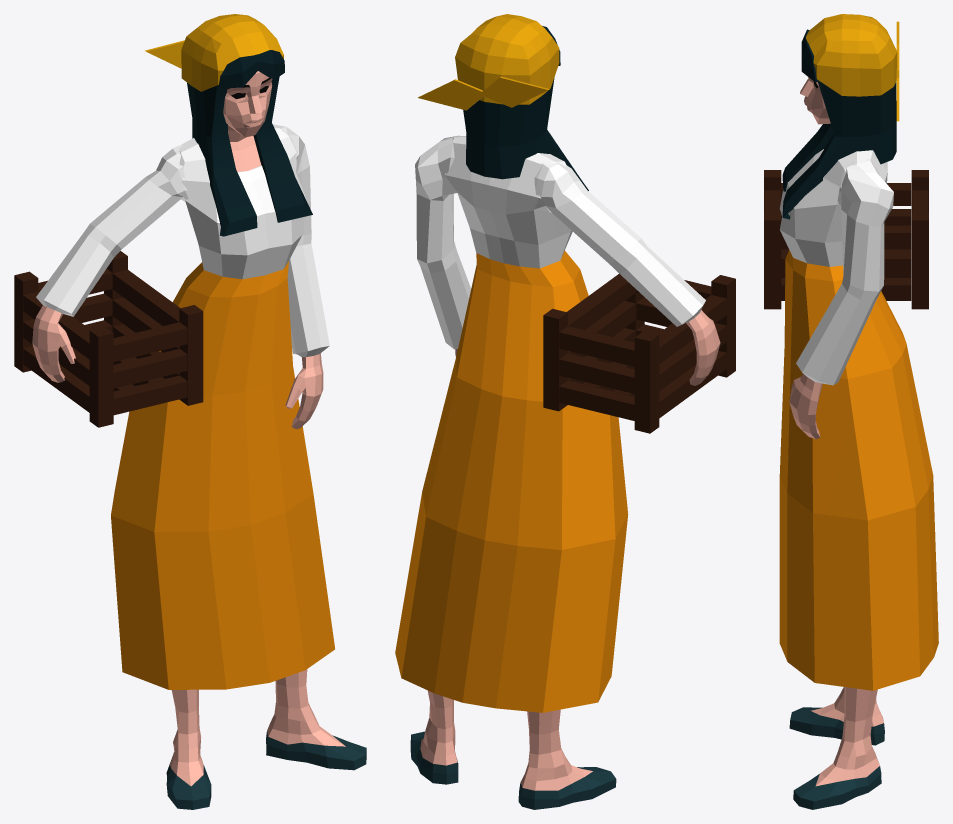
File: Female_pose_02.FBX
The picture shows the model from 3 angles, left to right: view 1: azimuth 30°, elevation 25°; view 2: azimuth 150°, elevation 25°; view 3: azimuth 270°, elevation 25°; orthographic projection. The views are drawn at different scales.
Parts seen in each view (by area): view 1: Female_pose_02; view 2: Female_pose_02; view 3: Female_pose_02.
Part boxes in pixels (x1,y1,x2,y2): Female_pose_02: (14,14,366,809); Female_pose_02: (395,14,735,809); Female_pose_02: (764,14,938,809).
Size of the model in its own units: 0.7556 by 1.73 by 0.3712.
1 material, 1 textured.
